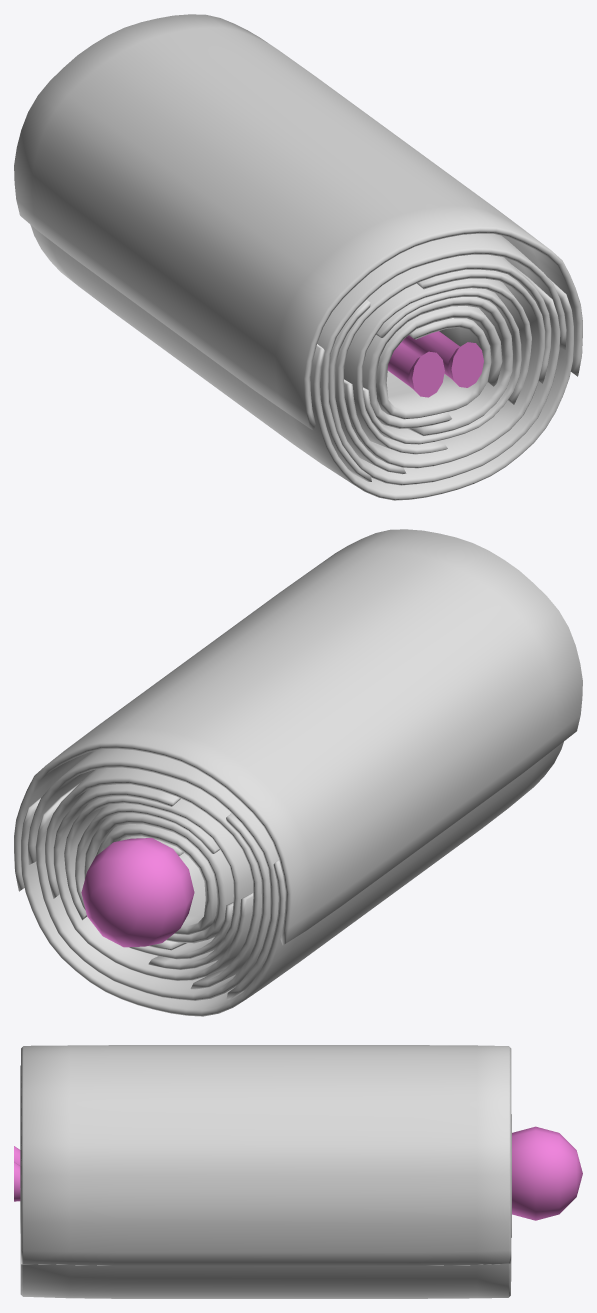
File: huton10.FBX
3 views of the same model, one above another, from view 1: azimuth 30°, elevation 25°; view 2: azimuth 150°, elevation 25°; view 3: azimuth 270°, elevation 25° (orthographic). The views are drawn at different scales.
Visible parts, largest first — view 1: huton1; view 2: huton1; view 3: huton1.
Boxes of the visible parts, x1=… form: huton1: x1=14, y1=14, x2=582, y2=500; huton1: x1=14, y1=529, x2=582, y2=1016; huton1: x1=14, y1=1045, x2=582, y2=1298.
Bounding box in the file's own units: 86.43 × 77.41 × 181.
